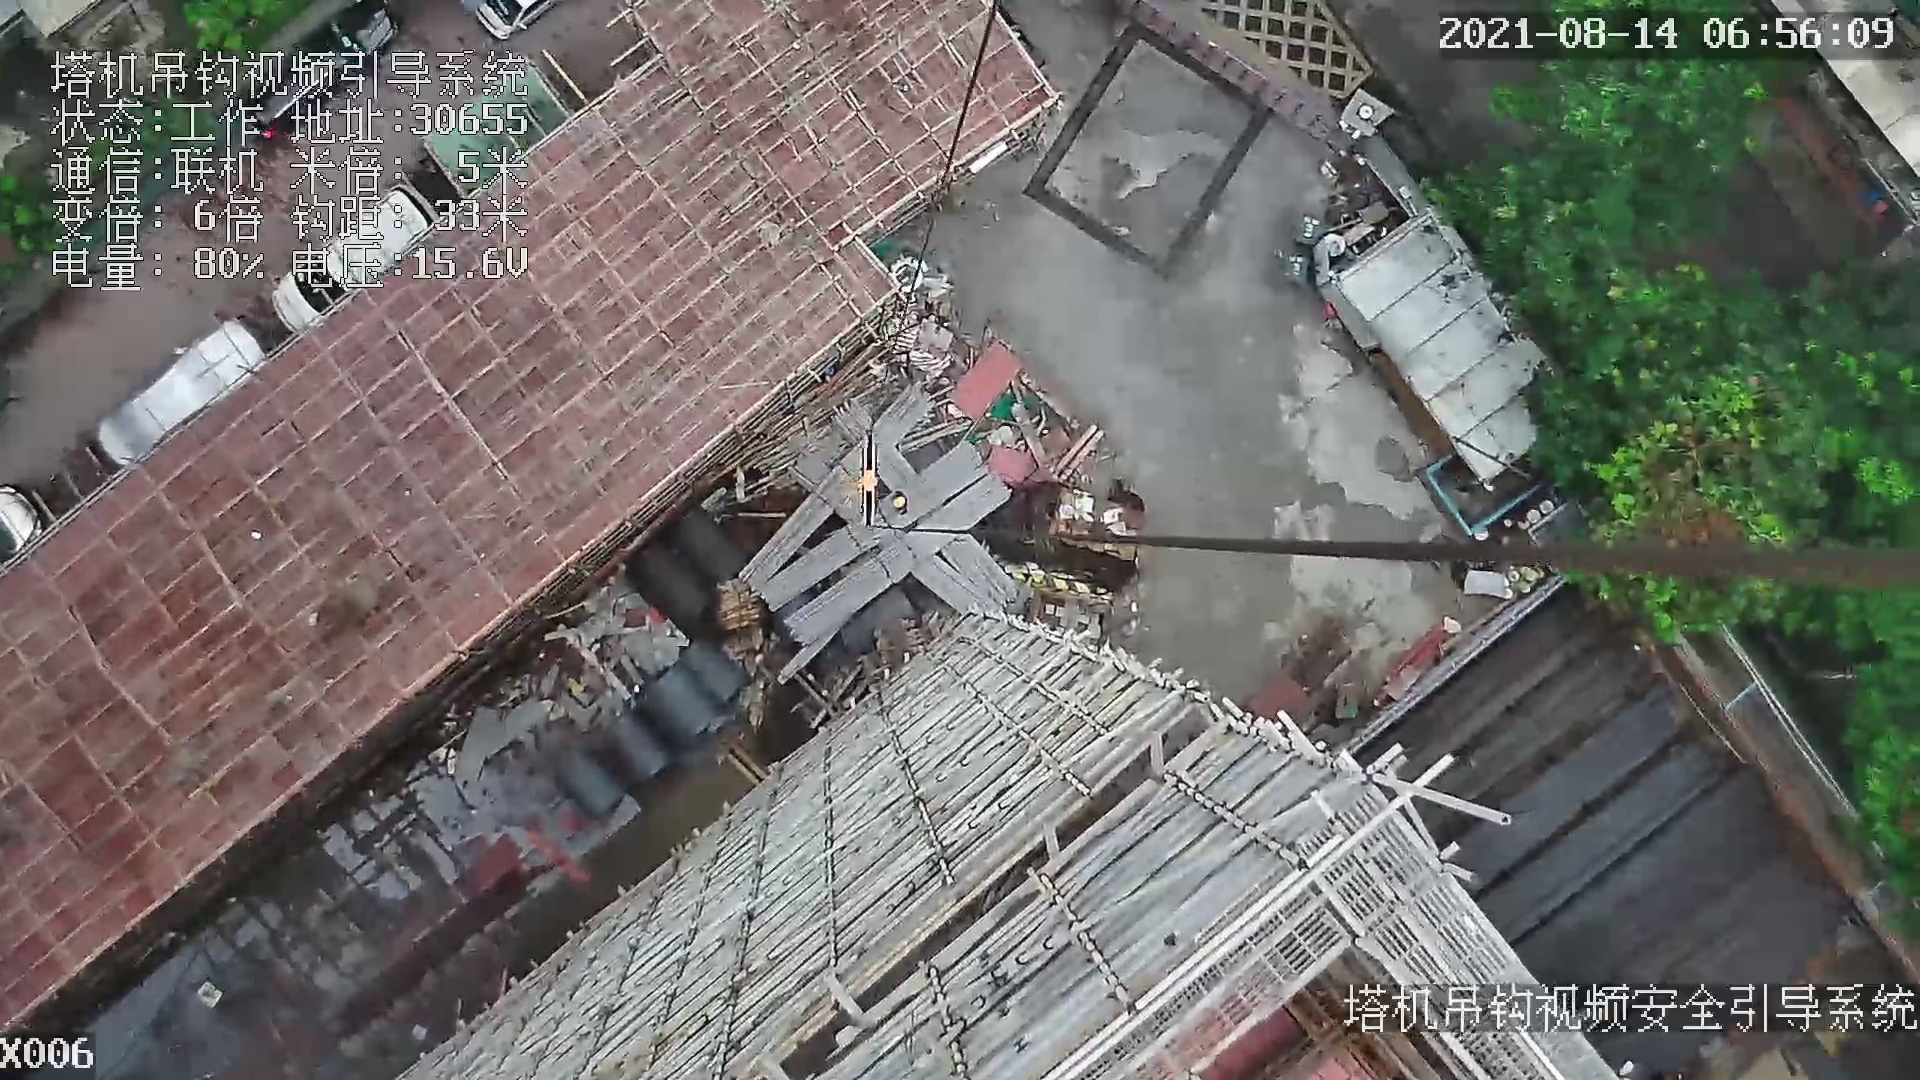helmet: (893, 496, 905, 508)
hook: (849, 431, 892, 532)
person: (894, 489, 910, 515)
rebar: (740, 384, 936, 593), (784, 473, 1011, 647), (759, 439, 987, 612), (940, 535, 1017, 603), (911, 557, 984, 613)
wood: (717, 593, 763, 629)
